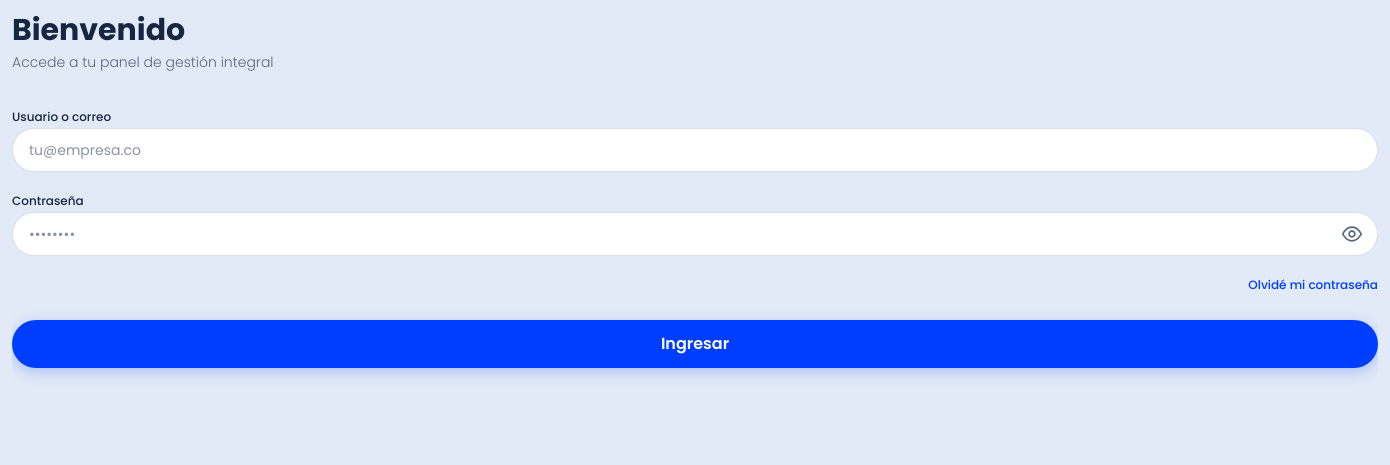
Test: LoginForm › muestra mensaje accesible sin detalle por campo en error
Type "user@example.com" into the field labelled "Usuario o correo".
click(695, 150); type("user@example.com")  # box [12,128,1378,172]
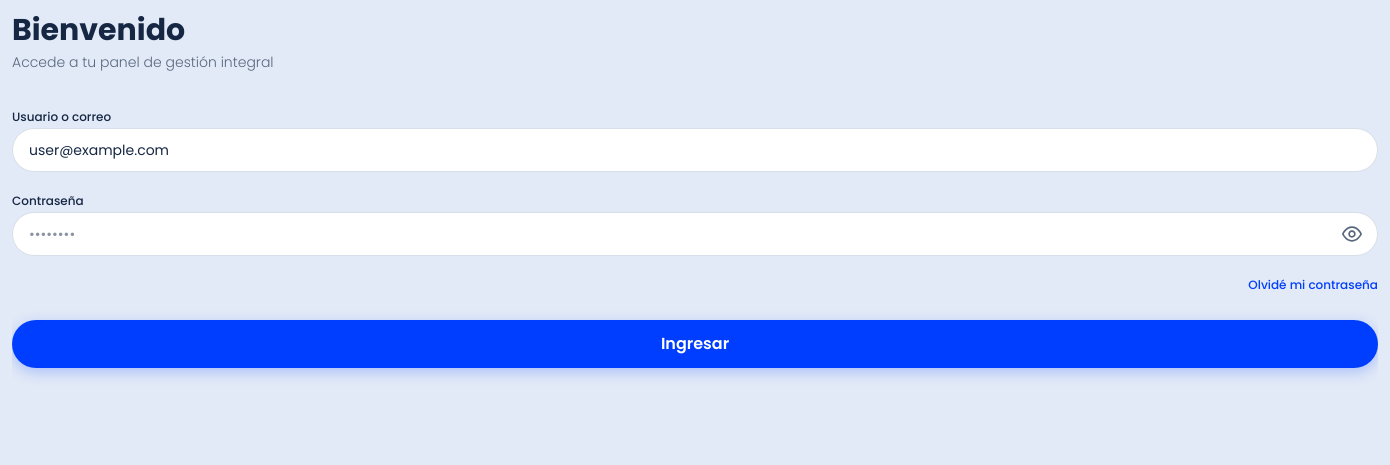
Type "bad" into the password field labelled "Contraseña".
click(695, 234); type("bad")  # box [12,212,1378,256]
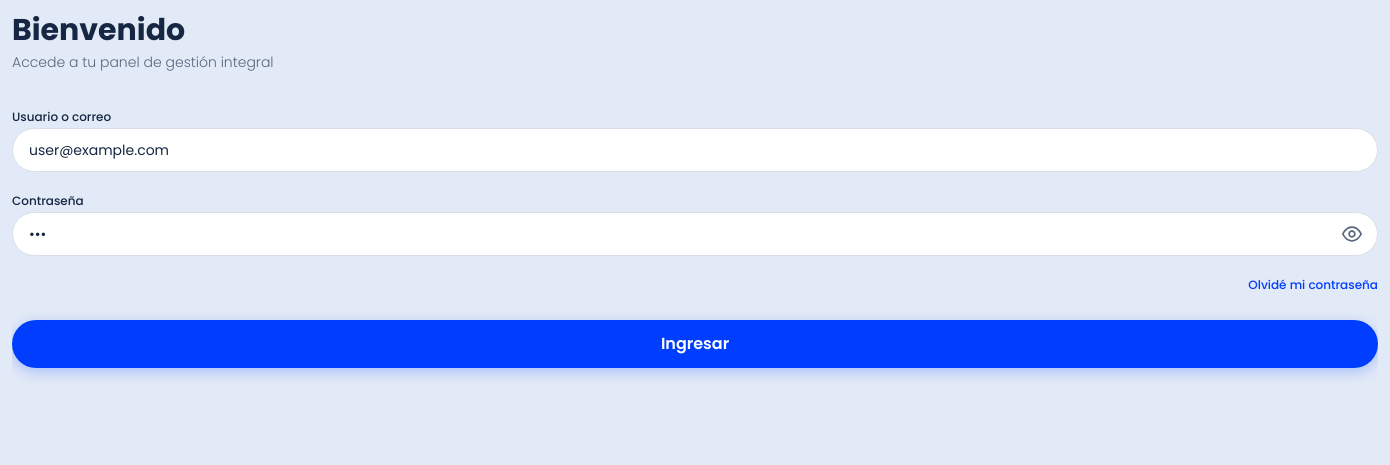
Click the button "Ingresar".
click(695, 344)  # box [12,320,1378,368]
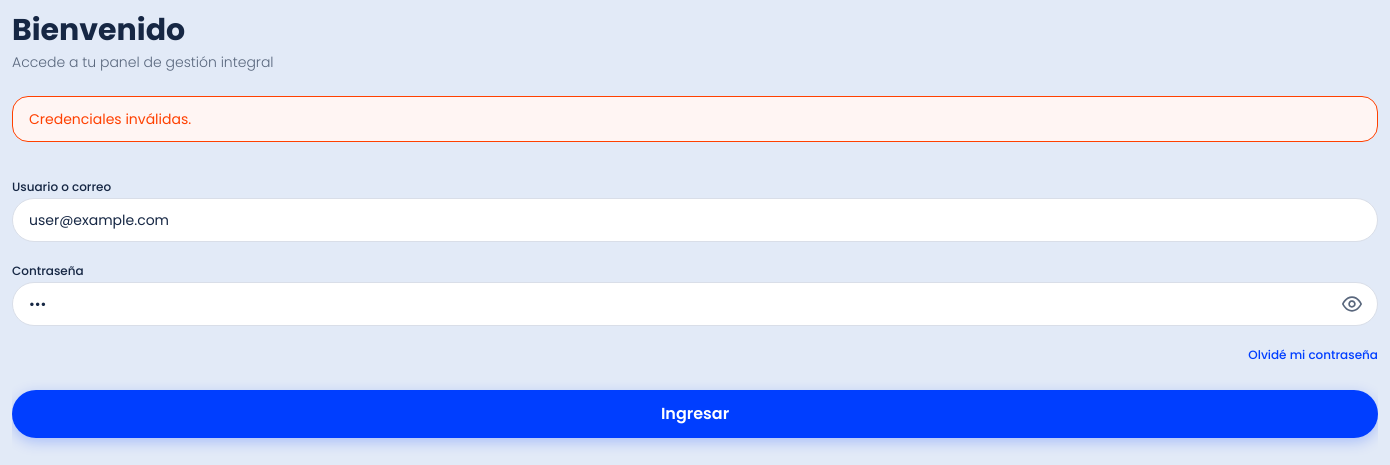
expect the message reads "Credenciales inválidas.": met, box [29,109,191,129]
